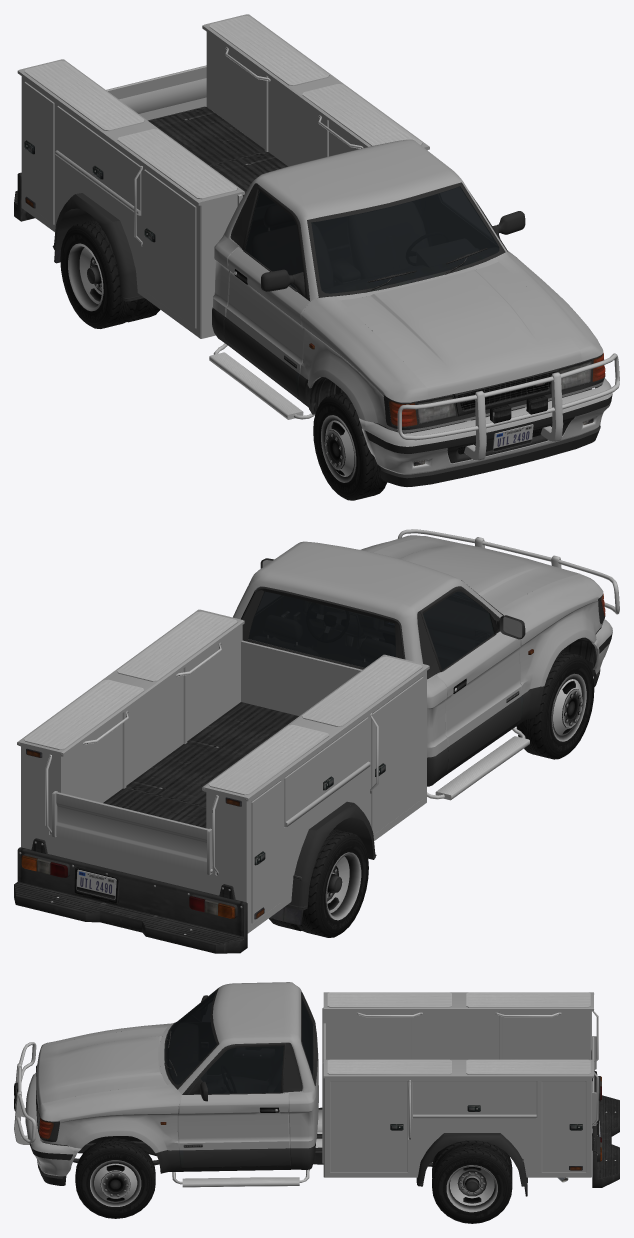
The model's file is lightbody-90-md-utility-low-poly-model-d3aca5.glb.
3 views of the same model, one above another, from view 1: azimuth 30°, elevation 25°; view 2: azimuth 150°, elevation 25°; view 3: azimuth 270°, elevation 25° (orthographic). The views are drawn at different scales.
Visible parts, largest first — view 1: body, wheel-back-right, wheel-front-right; view 2: body, wheel-back-right, wheel-front-right; view 3: body, wheel-back-left, wheel-front-left.
Boxes of the visible parts, x1,y1,x2,y2 form: body: (14, 14, 619, 486); wheel-back-right: (25, 194, 160, 328); wheel-front-right: (313, 392, 387, 500); body: (14, 529, 619, 953); wheel-back-right: (190, 803, 376, 937); wheel-front-right: (516, 650, 594, 759); body: (14, 982, 619, 1196); wheel-back-left: (416, 1133, 582, 1223); wheel-front-left: (75, 1138, 155, 1218).
Size of the model in its own units: 2 by 1.66 by 5.37.
Materials: 8 (7 with a texture image).
